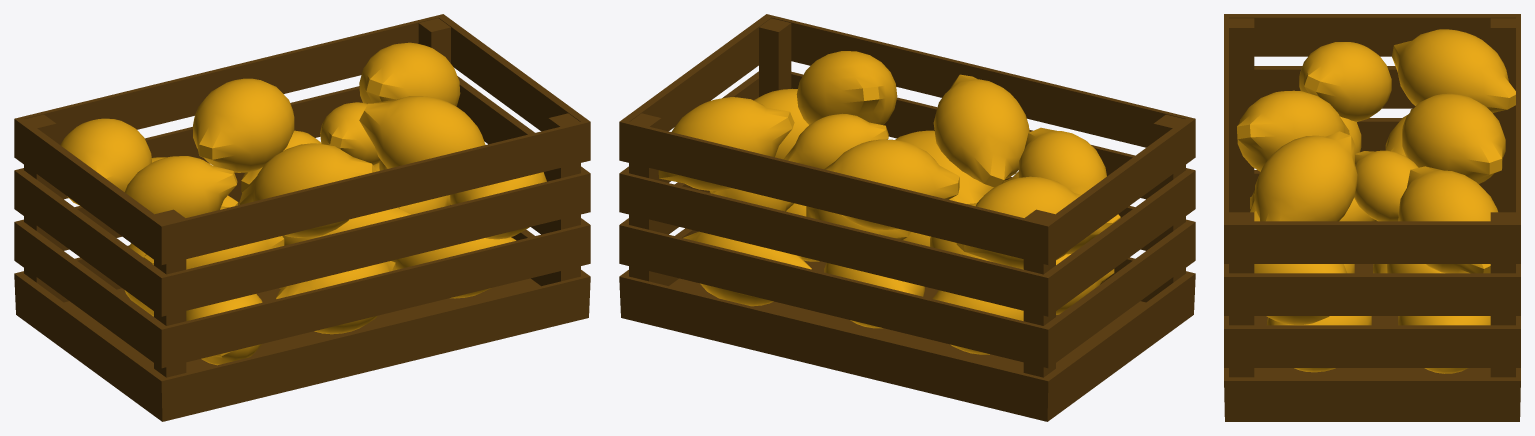
The model's file is box of lemon.fbx.
The picture shows the model from 3 angles, left to right: view 1: azimuth 30°, elevation 25°; view 2: azimuth 150°, elevation 25°; view 3: azimuth 270°, elevation 25°; orthographic projection.
Visible parts, largest first — view 1: Cube, Sphere.014, Sphere.013, Sphere.017, Sphere.012, Sphere.015, Sphere.016, Sphere.018, Sphere.003, Sphere.005, Sphere.001, Sphere.010 (+4 smaller); view 2: Cube, Sphere.015, Sphere.013, Sphere.012, Sphere.014, Sphere.017, Sphere.016, Sphere.018, Sphere, Sphere.008, Sphere.010, Sphere.002 (+3 smaller); view 3: Cube, Sphere.013, Sphere.016, Sphere.014, Sphere.017, Sphere.015, Sphere.012, Sphere.018, Sphere.010, Sphere, Sphere.001, Sphere.008 (+3 smaller).
Part boxes in pixels (left/top/right/bottom): Cube: left=14, top=14, right=590, bottom=421; Sphere.014: left=193, top=78, right=294, bottom=172; Sphere.013: left=359, top=96, right=485, bottom=168; Sphere.017: left=124, top=156, right=237, bottom=217; Sphere.012: left=359, top=42, right=460, bottom=106; Sphere.015: left=239, top=143, right=376, bottom=237; Sphere.016: left=60, top=118, right=151, bottom=205; Sphere.018: left=320, top=102, right=380, bottom=165; Sphere.003: left=276, top=261, right=395, bottom=334; Sphere.005: left=186, top=294, right=262, bottom=365; Sphere.001: left=391, top=237, right=516, bottom=298; Sphere.010: left=449, top=172, right=546, bottom=239; Cube: left=619, top=14, right=1195, bottom=421; Sphere.015: left=933, top=74, right=1029, bottom=187; Sphere.013: left=796, top=51, right=897, bottom=124; Sphere.012: left=658, top=97, right=794, bottom=191; Sphere.014: left=824, top=139, right=959, bottom=229; Sphere.017: left=1018, top=127, right=1106, bottom=194; Sphere.016: left=956, top=176, right=1081, bottom=269; Sphere.018: left=783, top=113, right=888, bottom=169; Sphere: left=683, top=231, right=811, bottom=306; Sphere.008: left=895, top=130, right=993, bottom=203; Sphere.010: left=754, top=88, right=808, bottom=159; Sphere.002: left=824, top=263, right=924, bottom=328; Cube: left=1224, top=14, right=1520, bottom=421; Sphere.013: left=1254, top=131, right=1357, bottom=221; Sphere.016: left=1392, top=29, right=1515, bottom=113; Sphere.014: left=1402, top=93, right=1505, bottom=183; Sphere.017: left=1299, top=42, right=1391, bottom=121; Sphere.015: left=1237, top=90, right=1349, bottom=171; Sphere.012: left=1398, top=166, right=1497, bottom=273; Sphere.018: left=1354, top=150, right=1418, bottom=221; Sphere.010: left=1254, top=264, right=1346, bottom=324; Sphere: left=1398, top=316, right=1490, bottom=373; Sphere.001: left=1267, top=316, right=1371, bottom=372; Sphere.008: left=1250, top=190, right=1376, bottom=221.
Size of the model in its own units: 348 by 168 by 207.
